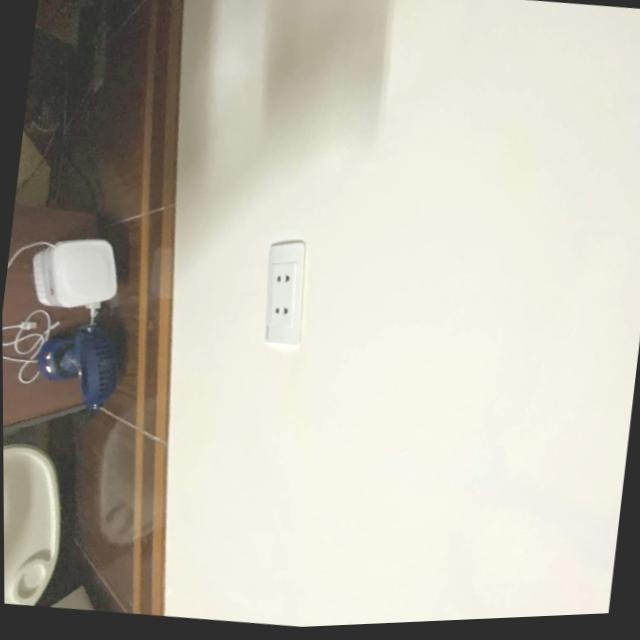outlet: (257, 236, 313, 348)
